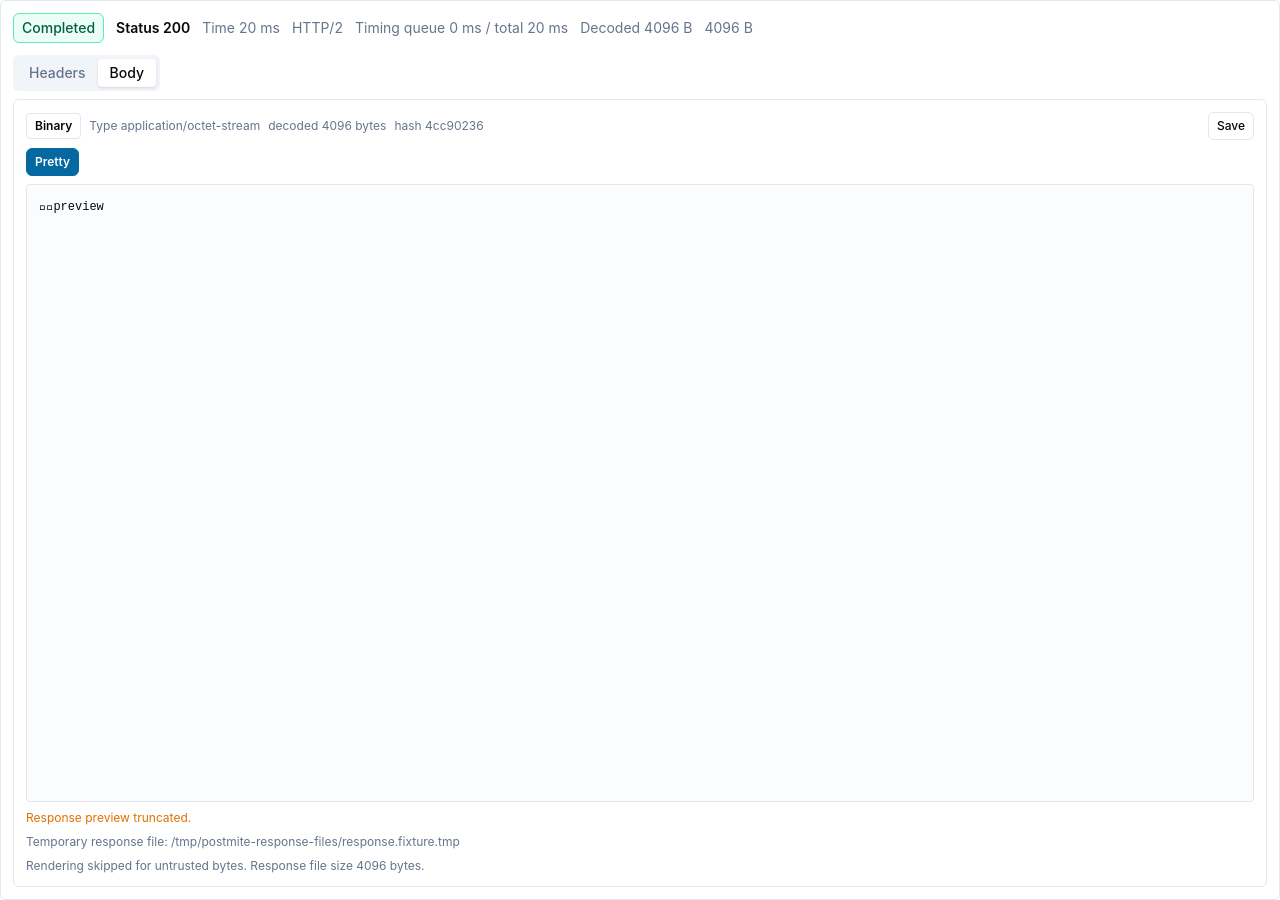
it: ResponsePanel › exposes save for binary response files through typed IPC
Click the button "Save" at (1231, 126), box [1208,112,1254,140]
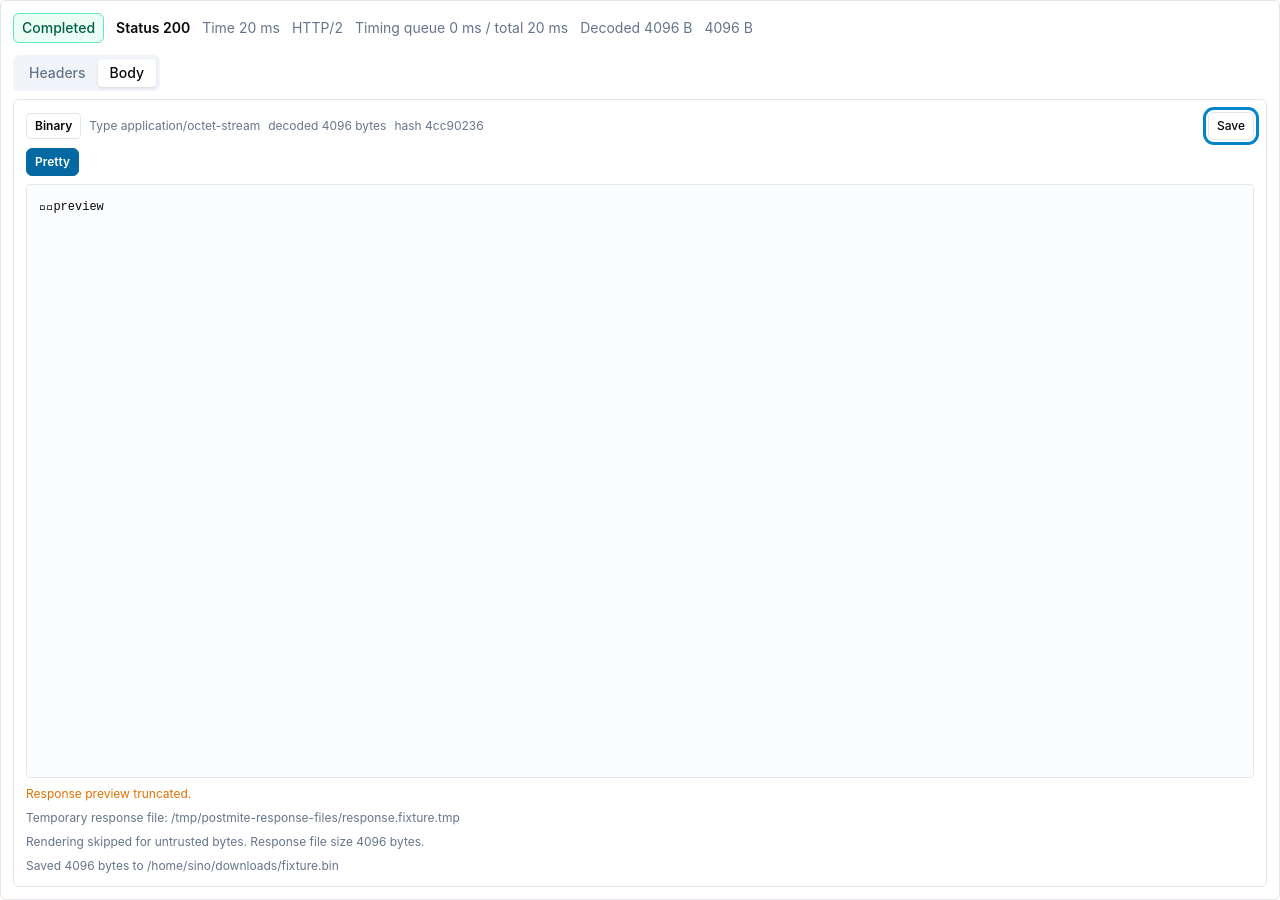
Now the text "Saved 4096 bytes to /home/sino/downloads/fixture.bin" is shown, box [26,858,339,873]
